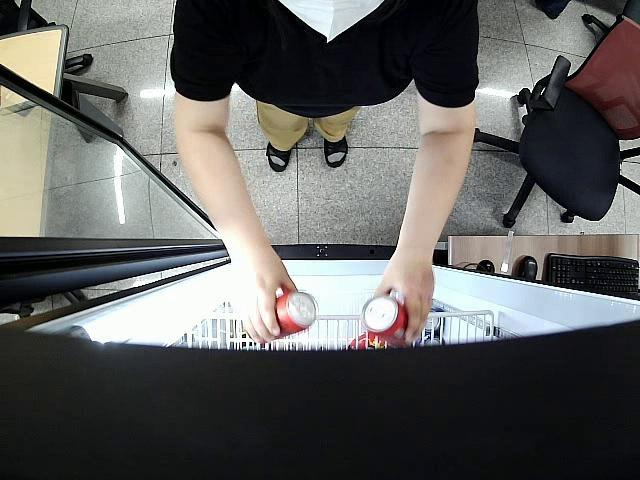11_cocaColaZero: (268, 289, 317, 339), (362, 296, 409, 344)
